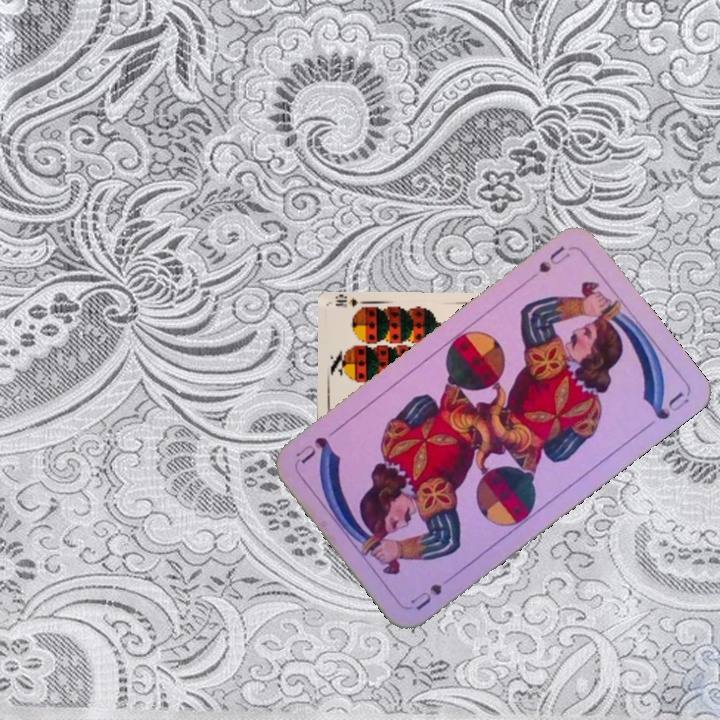SU: (406, 579, 445, 614), (534, 241, 573, 276)
